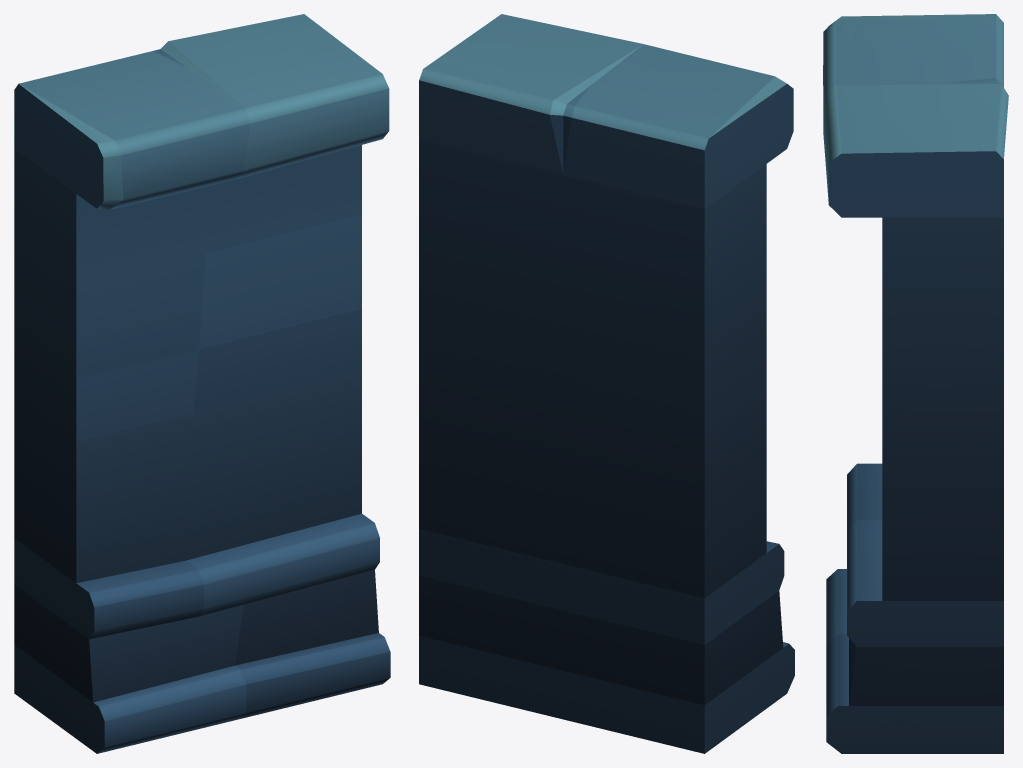
The model's file is wall_element_tileable_2meters.fbx.
3 renders of one model, left to right at view 1: azimuth 30°, elevation 25°; view 2: azimuth 150°, elevation 25°; view 3: azimuth 270°, elevation 25°, orthographic.
Parts seen in each view (by area): view 1: wall_element_tileable_2meters; view 2: wall_element_tileable_2meters; view 3: wall_element_tileable_2meters.
Part boxes in pixels (<box>): wall_element_tileable_2meters: <box>14,14,390,753</box>; wall_element_tileable_2meters: <box>419,14,794,753</box>; wall_element_tileable_2meters: <box>823,14,1008,753</box>.
Size of the model in its own units: 200 by 412 by 114.
